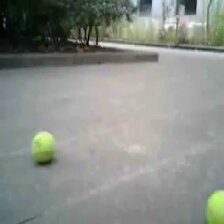tennis: (205, 189, 224, 224), (32, 132, 55, 160)
